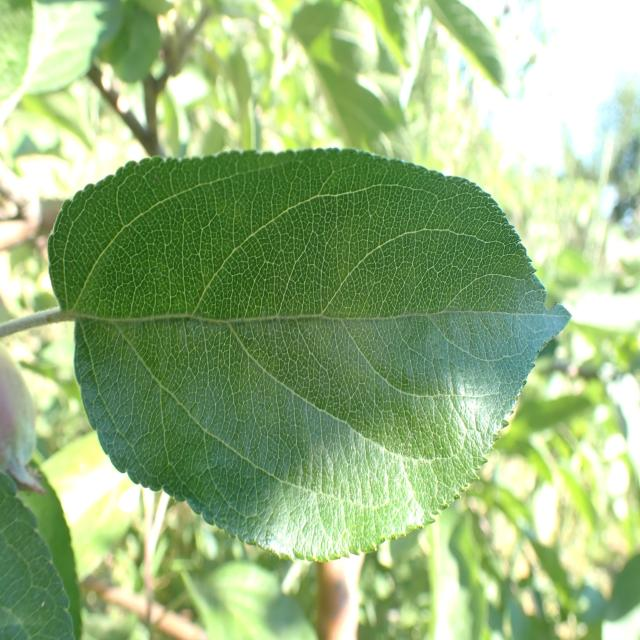healthy: (48, 147, 573, 564), (0, 471, 76, 640)
